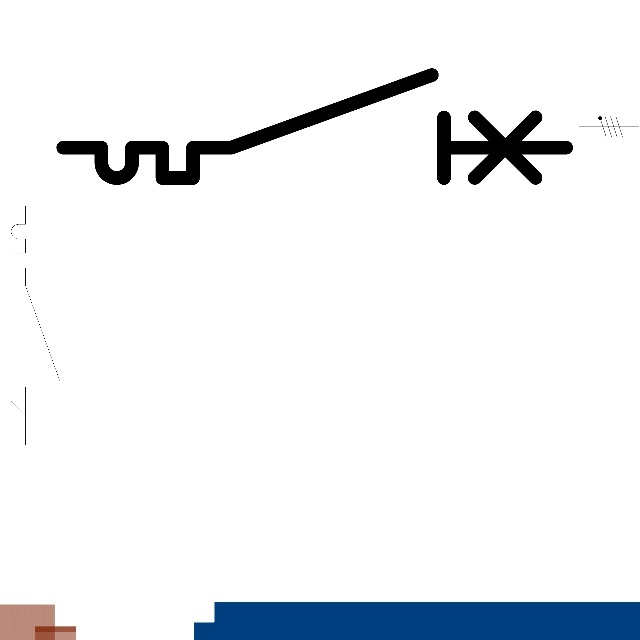interruptor_termomagnetico: (50, 62, 579, 191), (5, 200, 66, 451)
